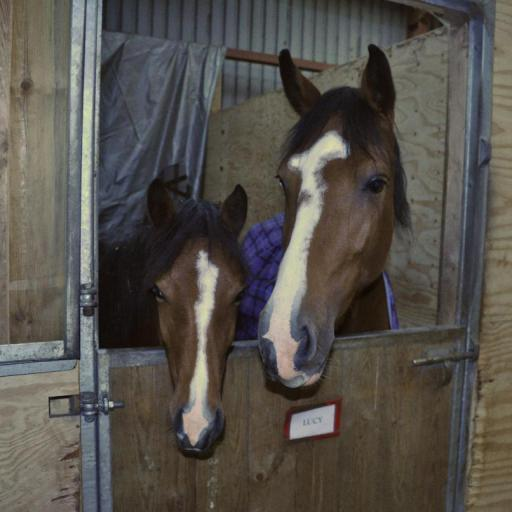horse: (238, 40, 416, 388), (97, 181, 251, 461)
